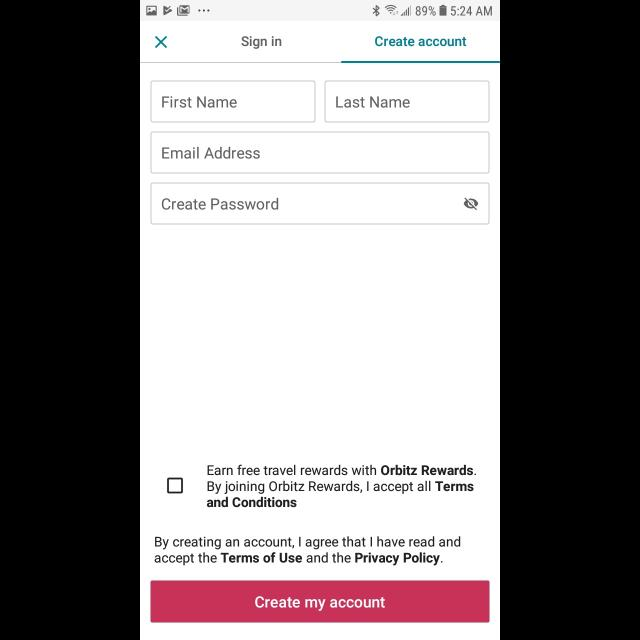checkbox: (168, 478, 182, 492)
icon: (464, 198, 478, 210), (156, 36, 168, 48)
input: (150, 183, 490, 225), (150, 132, 490, 174), (324, 81, 490, 123), (152, 81, 316, 123)
text: (208, 464, 477, 508), (155, 536, 461, 566), (162, 198, 278, 210), (162, 146, 260, 160), (375, 36, 467, 48), (162, 96, 238, 108), (336, 96, 410, 108), (242, 36, 282, 50)
textbutton: (151, 581, 489, 623)
uppertaskbar: (140, 1, 500, 22)
